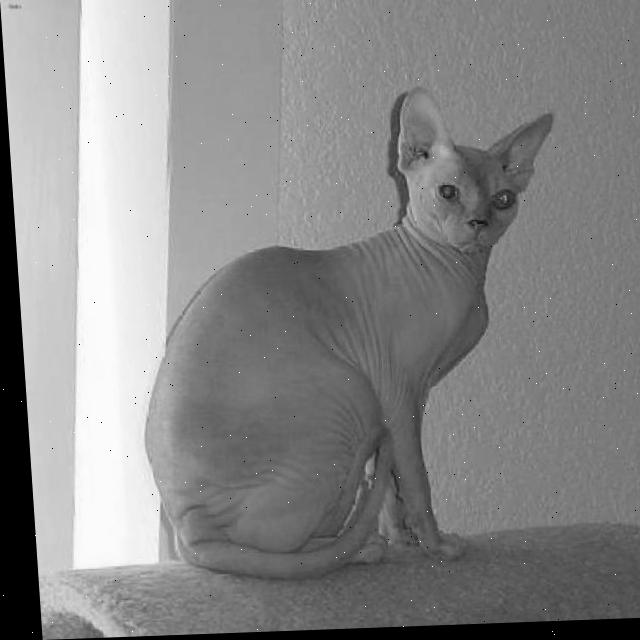Cat: (122, 79, 584, 589)
